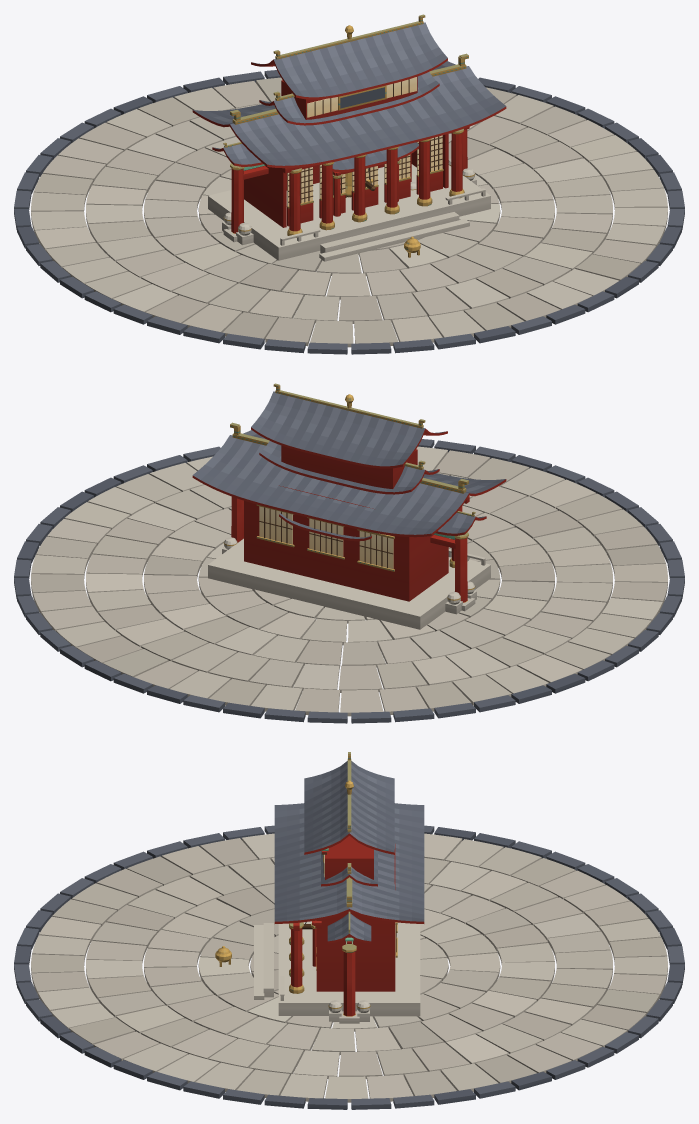
The model's file is BeginnerIsle_Kit.fbx.
3 renders of one model, top to bottom at view 1: azimuth 30°, elevation 25°; view 2: azimuth 150°, elevation 25°; view 3: azimuth 270°, elevation 25°, orthographic.
Parts seen in each view (by area): view 1: BI_CourtPaving, BI_Hall, BI_LionGate, BI_Pavilion; view 2: BI_CourtPaving, BI_Hall, BI_LionGate; view 3: BI_CourtPaving, BI_Hall, BI_LionGate.
Boxes of the visible parts, x1,y1,x2,y2 form: BI_CourtPaving: [14, 70, 684, 354]; BI_Hall: [192, 14, 506, 261]; BI_LionGate: [212, 72, 476, 245]; BI_Pavilion: [332, 142, 418, 216]; BI_CourtPaving: [14, 439, 684, 723]; BI_Hall: [192, 383, 506, 629]; BI_LionGate: [222, 441, 486, 614]; BI_CourtPaving: [14, 825, 684, 1109]; BI_Hall: [215, 752, 424, 1018]; BI_LionGate: [321, 849, 377, 1023].
Size of the model in its own units: 104 by 32.2 by 104.
1 material, 1 textured.
